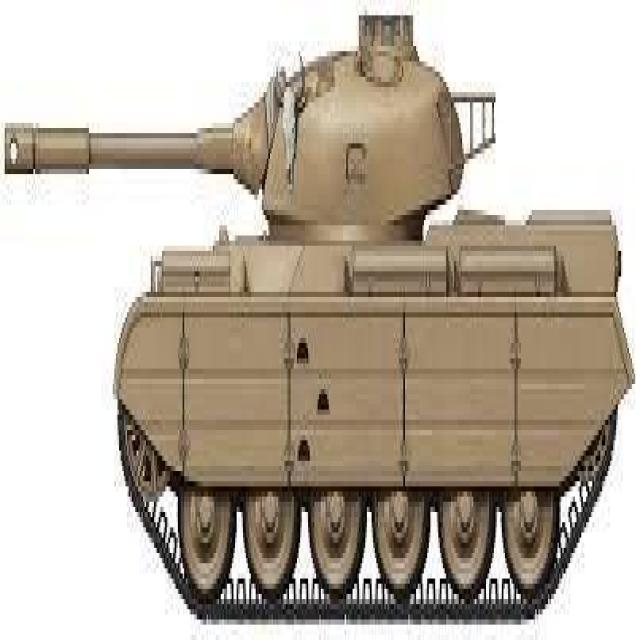Tanks: (6, 16, 634, 620)
